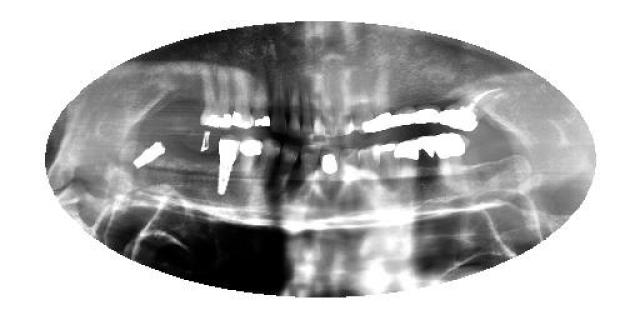Fillings: (196, 66, 232, 129), (439, 134, 465, 188), (239, 138, 261, 194), (372, 72, 392, 132), (252, 70, 272, 129), (232, 71, 252, 129), (352, 81, 372, 134), (395, 138, 417, 184), (414, 83, 438, 125), (394, 82, 414, 128), (418, 136, 438, 176), (319, 148, 341, 178)
Implant: (438, 84, 504, 131), (214, 135, 238, 195), (131, 138, 169, 172)
